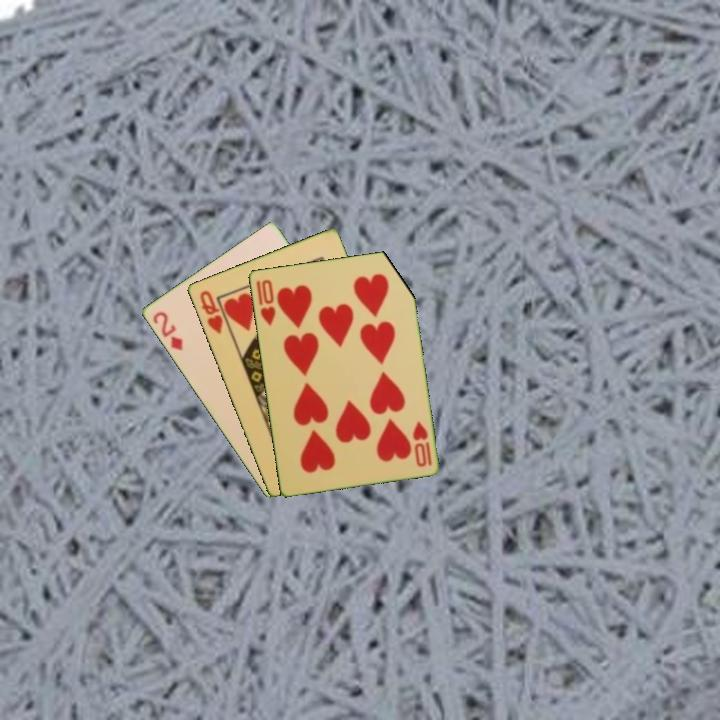10h: (409, 418, 434, 470), (256, 276, 278, 329)
2d: (149, 308, 185, 354)
Qh: (196, 287, 226, 337)
